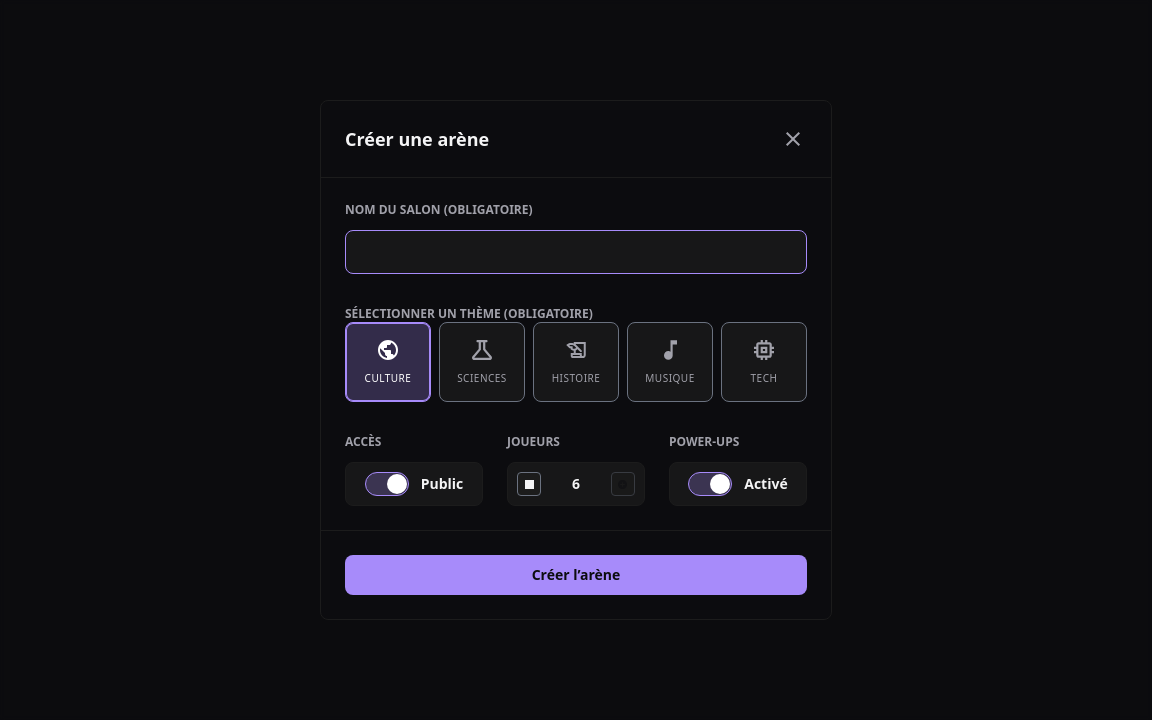
Test: CreateLobbyModal — stepper joueurs › décrémente jusqu’à 2 puis désactive « − »
This screenshot has width=1152, height=720.
Click the 2nd button: click(529, 484) [517,472,541,496]
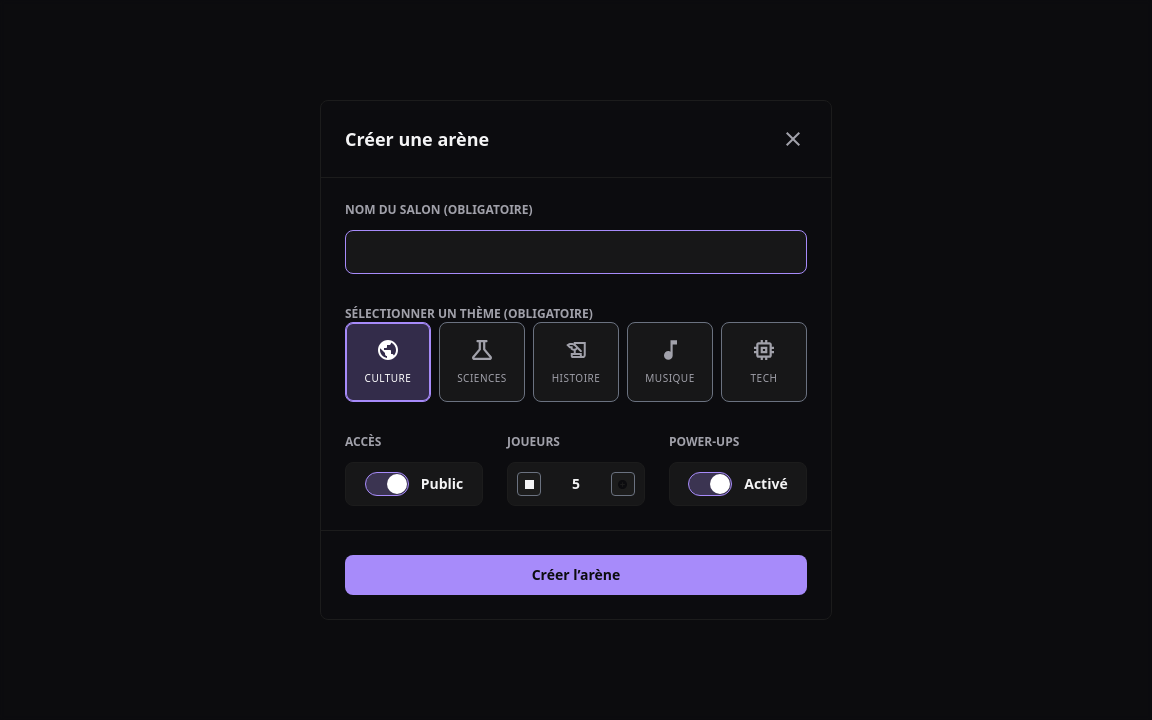
Click the 2nd button: click(529, 484) [517,472,541,496]
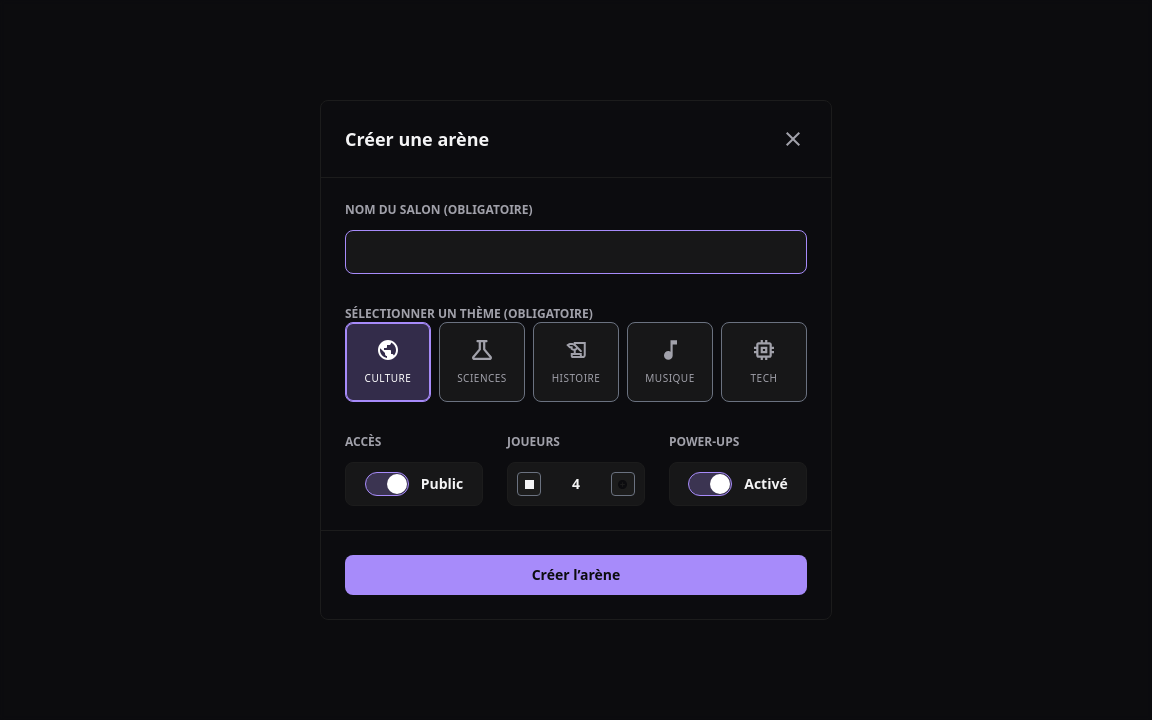
Click the 2nd button: click(529, 484) [517,472,541,496]
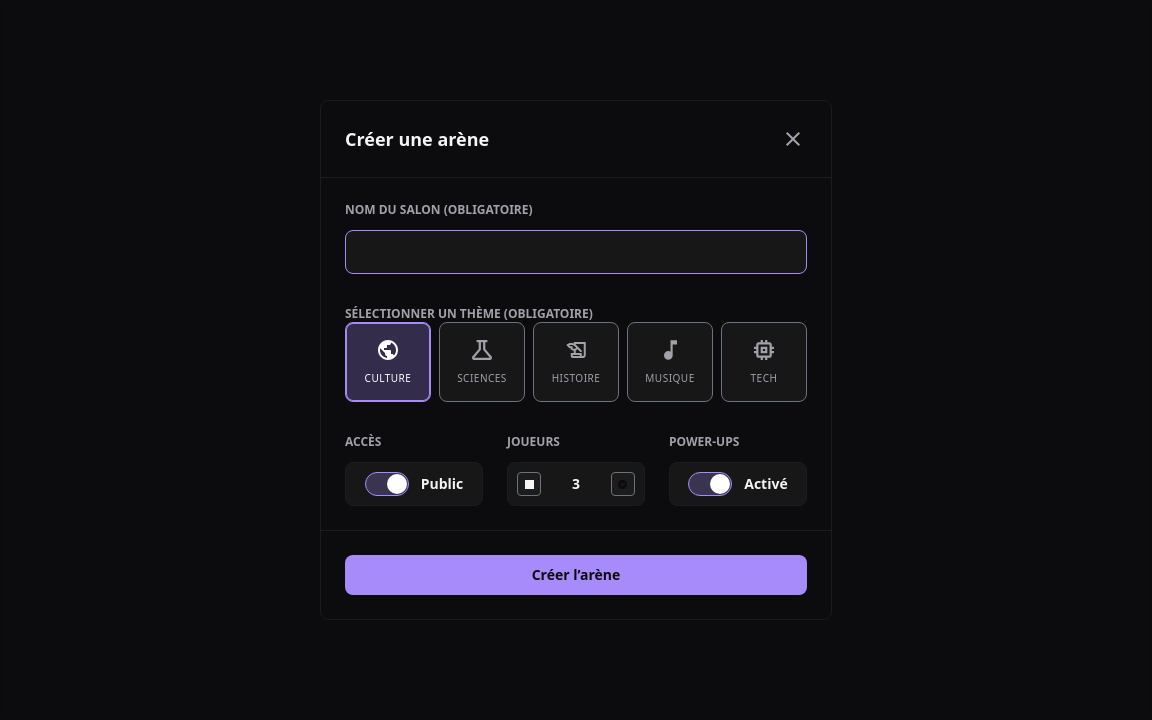
Click the 2nd button: click(529, 484) [517,472,541,496]
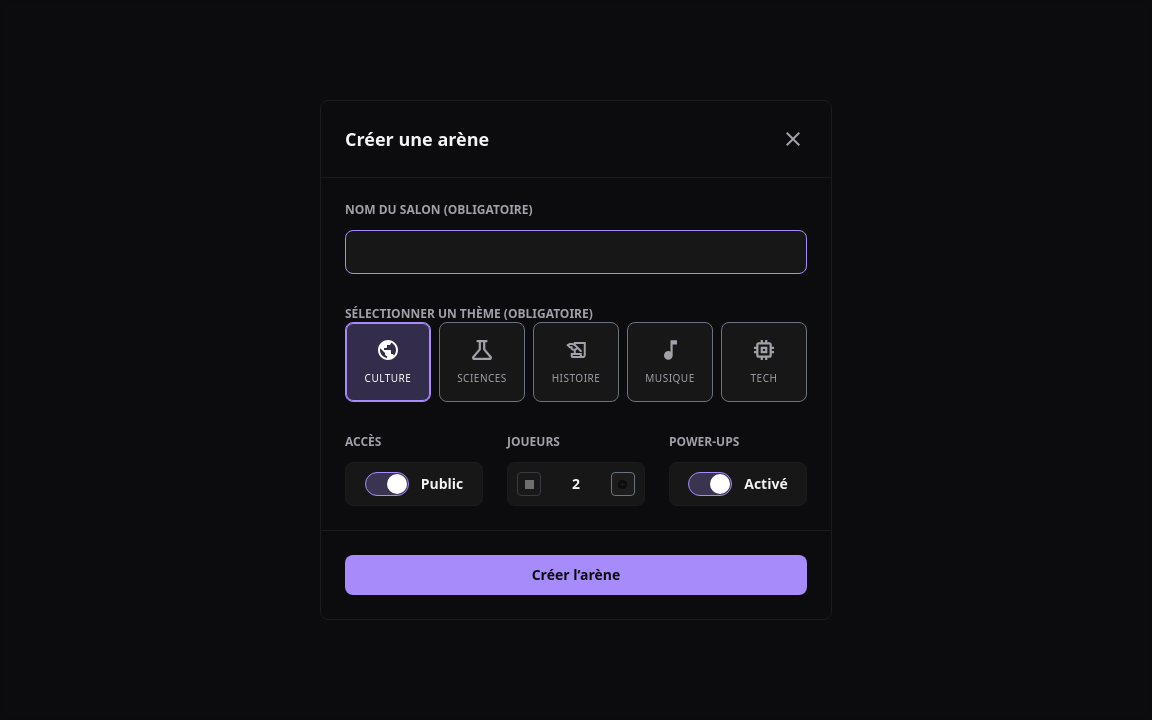
Now the 3rd button is enabled, box [611,472,635,496]
Now the element with class "stepper__value" reads "2", box [572,474,580,493]
Now the 2nd button is disabled, box [517,472,541,496]
